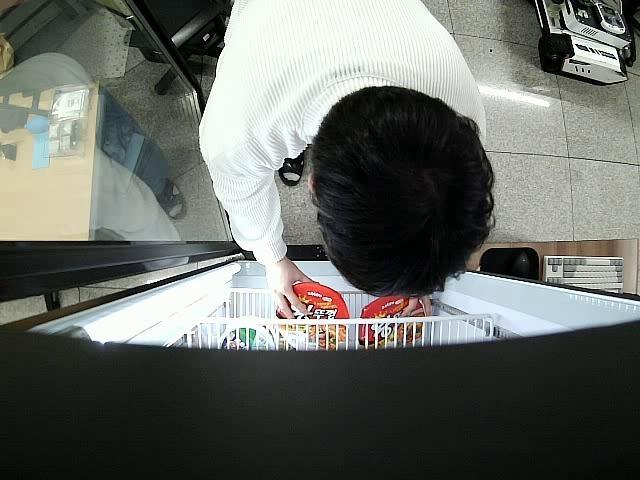10_wangTtukkeong: (275, 284, 350, 350), (360, 295, 425, 346)
